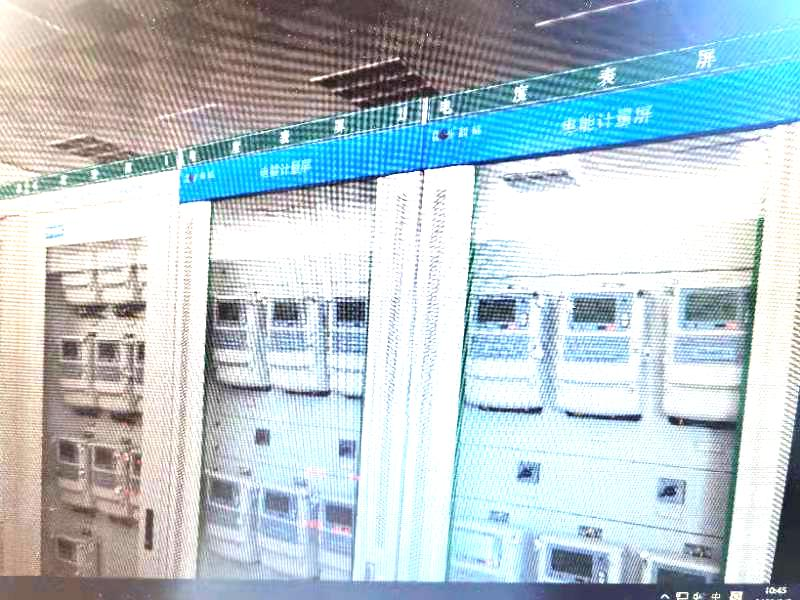digital: (658, 284, 751, 420), (554, 292, 640, 414), (464, 290, 538, 411), (266, 294, 317, 392), (256, 484, 305, 577), (534, 535, 614, 588), (212, 288, 254, 387), (329, 293, 367, 394), (451, 521, 514, 581), (203, 471, 244, 560), (316, 498, 353, 577), (93, 340, 126, 412), (54, 338, 89, 405), (642, 554, 720, 584), (91, 446, 121, 518), (53, 437, 83, 505), (60, 247, 93, 302), (100, 243, 129, 303), (54, 532, 81, 575), (129, 449, 141, 519), (136, 241, 148, 302), (132, 339, 142, 410)
